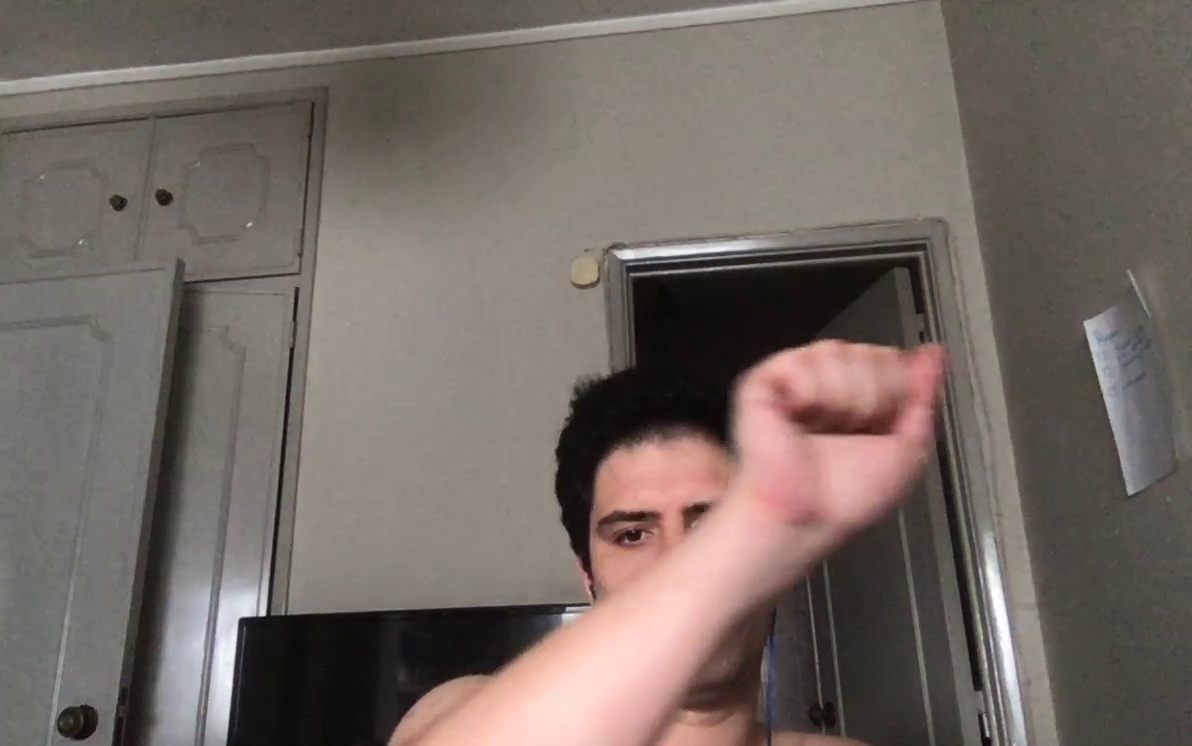a: (705, 312, 956, 542)
